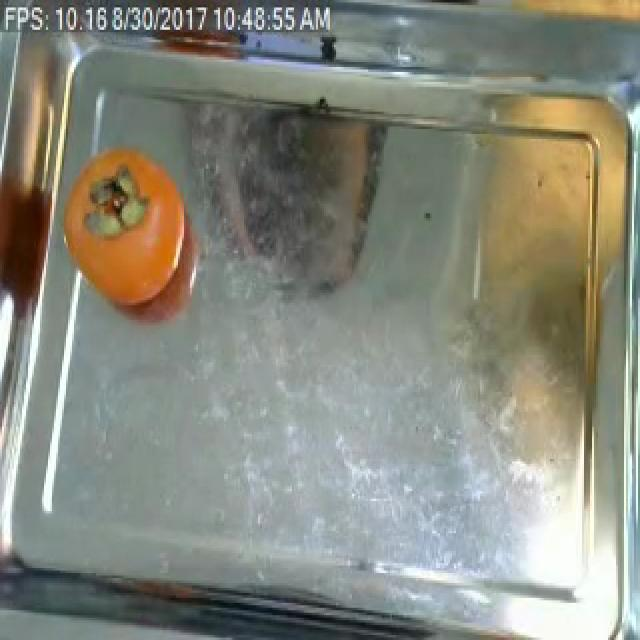Fruit: (464, 119, 612, 399), (62, 139, 192, 315), (476, 0, 640, 35)
